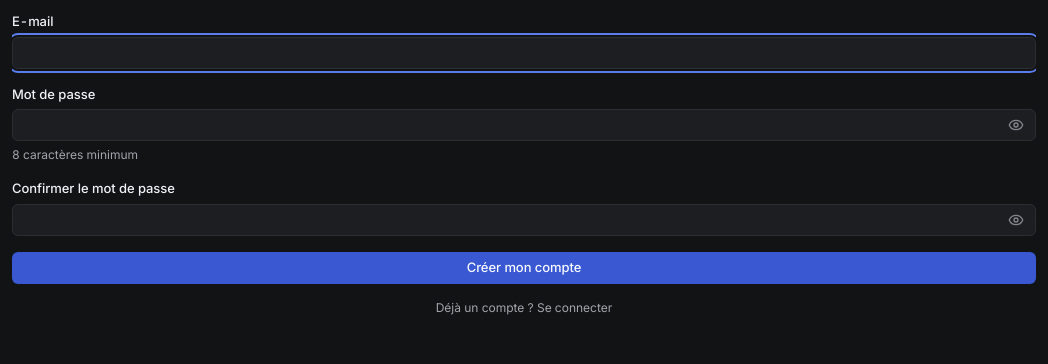
Test: <SignupForm> › maps a 422 weak-password error to an actionable message
Type "new@example.com" into the field labelled "E-mail".
click(524, 53); type("new@example.com")  # box [12,37,1036,69]
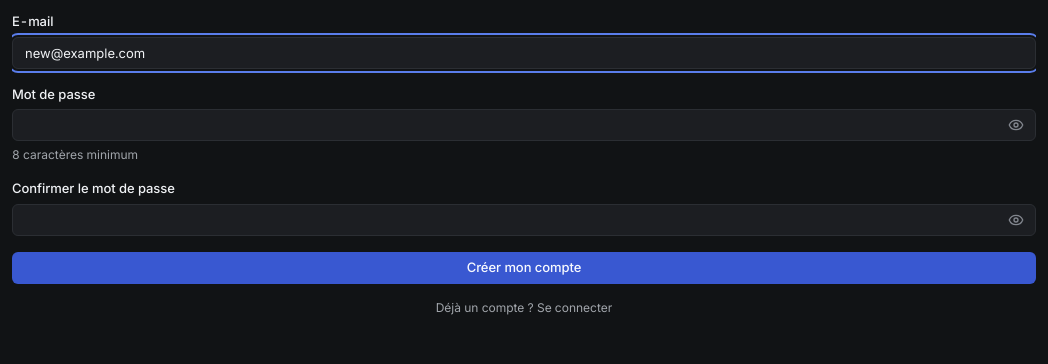
Type "hunter2secret" into the password field labelled "Mot de passe".
click(524, 125); type("hunter2secret")  # box [12,109,1036,141]
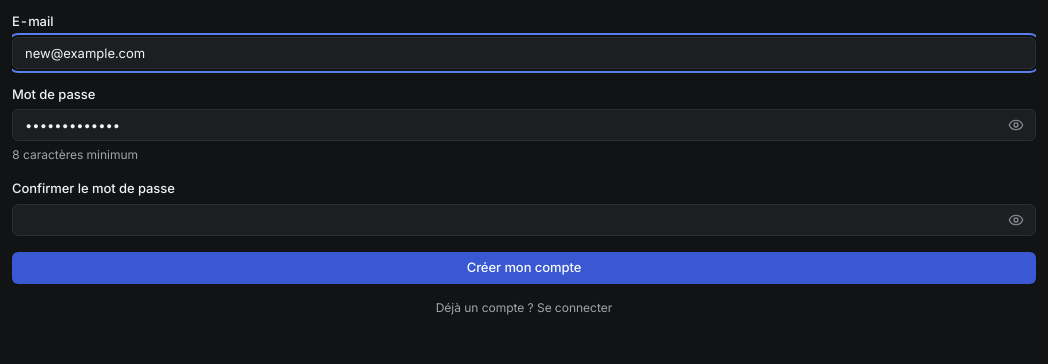
Type "hunter2secret" into the password field labelled "Confirmer le mot de passe".
click(524, 220); type("hunter2secret")  # box [12,204,1036,236]
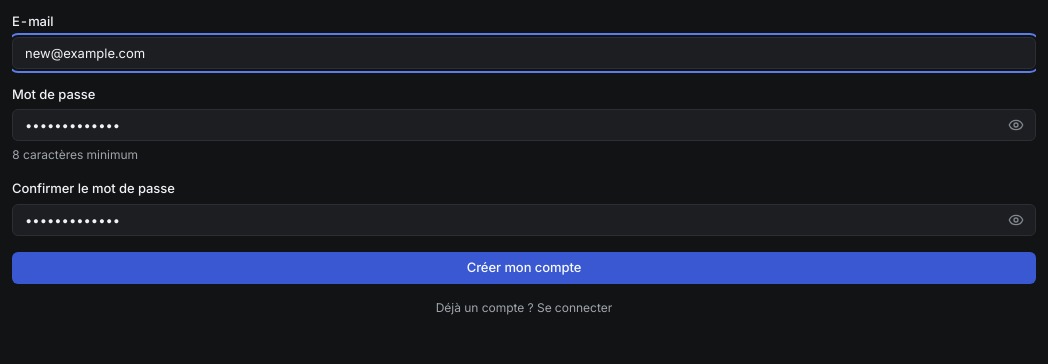
Click the button "Créer mon compte".
click(524, 268)  # box [12,252,1036,284]
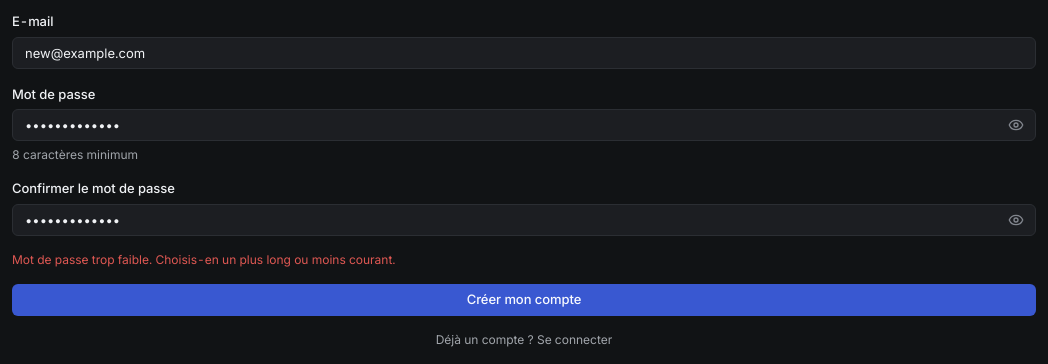
Now the text "Mot de passe trop faible. Choisis-en un plus long ou moins courant." is shown, box [12,252,396,267]
